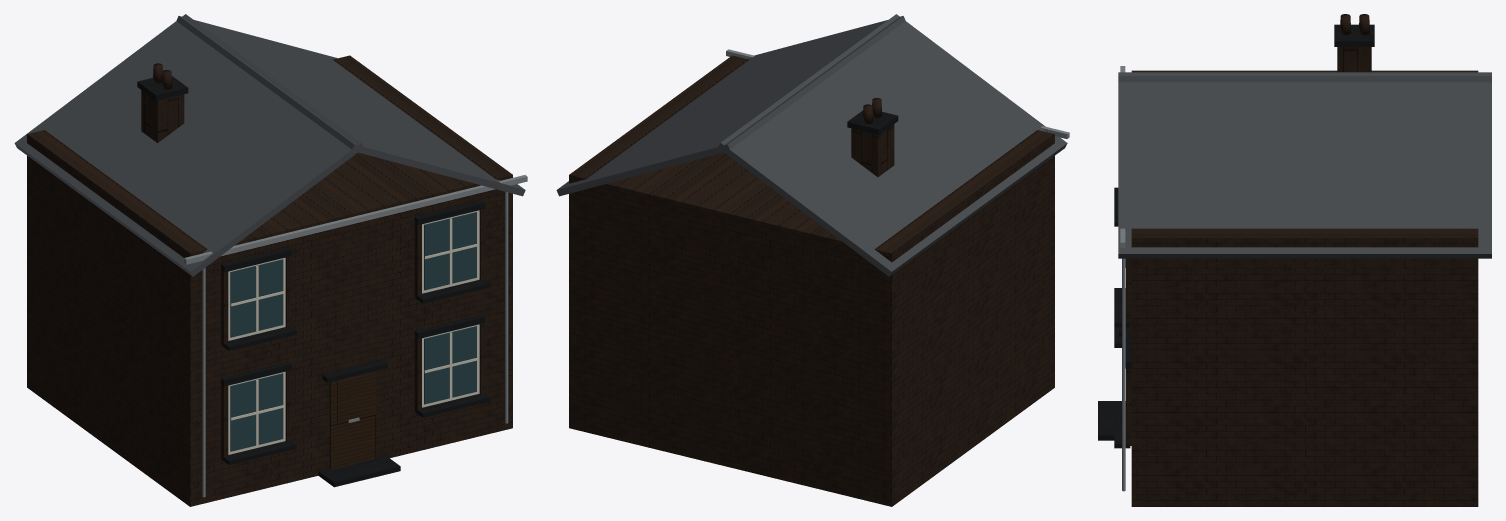
Rendered from terrace-house.glb.
3 renders of one model, left to right at view 1: azimuth 30°, elevation 25°; view 2: azimuth 150°, elevation 25°; view 3: azimuth 270°, elevation 25°, orthographic. The views are drawn at different scales.
Parts seen in each view (by area): view 1: Brick shell, Pitched roof, Pitched roof.001, Front door, Window glass, Window glass.002, Window glass.001, Window glass.003, Gutter, Chimney stack, Doorstep, Downpipe.001 (+19 smaller); view 2: Brick shell, Pitched roof, Pitched roof.001, Chimney stack, Chimney crown; view 3: Brick shell, Pitched roof.001, Pitched roof, Downpipe.001, Chimney stack, Doorstep, Chimney crown, Window reveal.003.
Boxes of the visible parts, x1,y1,x2,y2 form: Brick shell: (27,55,512,506); Pitched roof: (14,14,363,276); Pitched roof.001: (176,16,525,196); Front door: (329,371,376,469); Window glass: (230,373,283,451); Window glass.002: (230,259,283,337); Window glass.001: (424,326,476,404); Window glass.003: (424,212,476,290); Gutter: (184,175,527,264); Chimney stack: (141,90,184,143); Doorstep: (318,455,400,487); Downpipe.001: (505,179,508,423); Brick shell: (569,55,1054,506); Pitched roof: (718,14,1067,276); Pitched roof.001: (556,16,905,196); Chimney stack: (851,124,894,177); Chimney crown: (847,110,898,134); Brick shell: (1131,70,1478,506); Pitched roof.001: (1118,72,1491,258); Pitched roof: (1118,76,1491,82); Downpipe.001: (1122,232,1125,491); Chimney stack: (1337,47,1371,72); Doorstep: (1098,401,1125,440); Chimney crown: (1334,24,1374,46); Window reveal.003: (1126,366,1131,445).
Bounding box in the file's own units: 8.45 × 8.11 × 7.96.
Materials: 7 (3 with a texture image).
